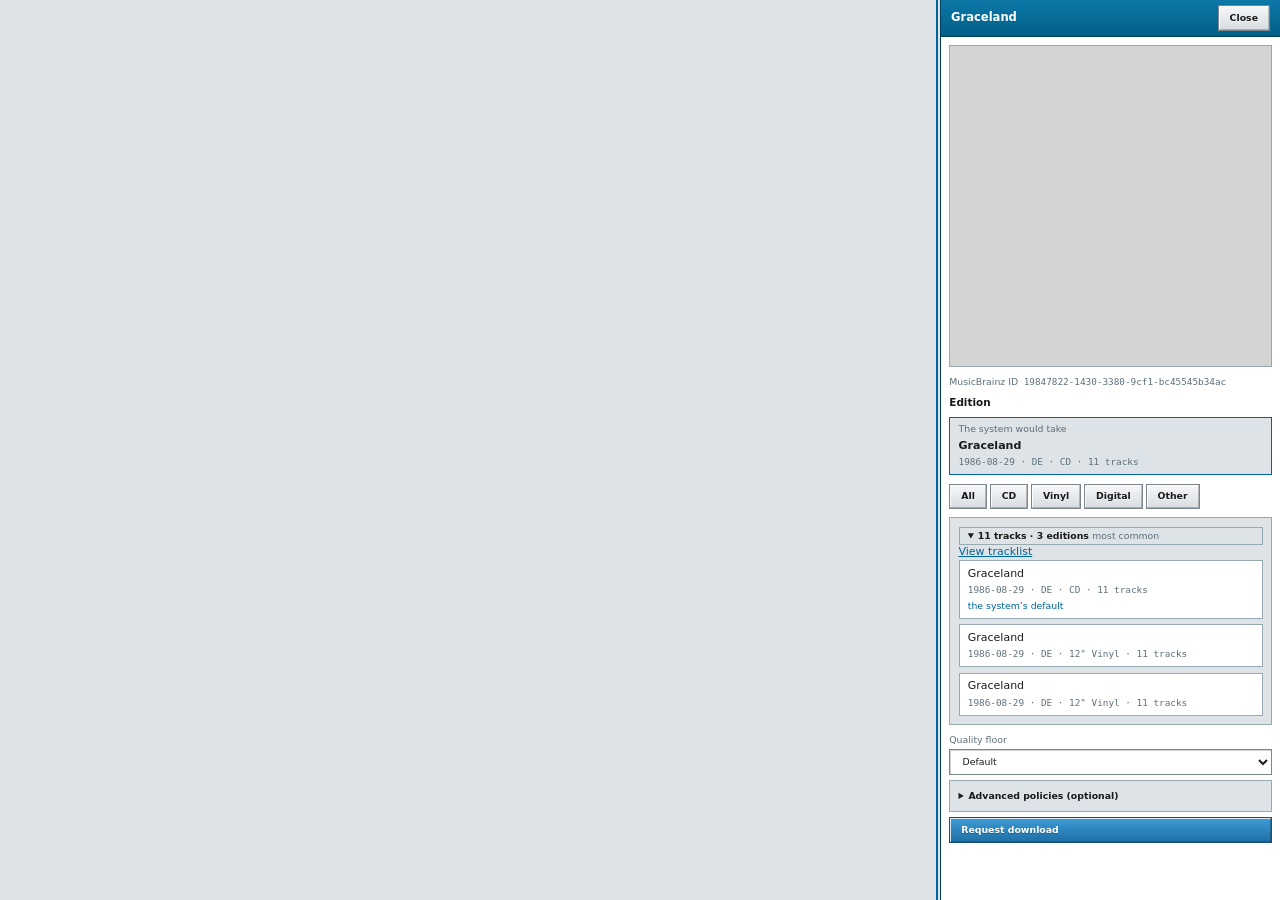
CatalogDetail › recounts a group’s heading against the pressings the filter left
The image size is (1280, 900).
Expected: the text "11 tracks · 3 editions" is shown, [978,530,1089,541]
Click the button "CD" at (1009, 496), box [990,484,1028,509]
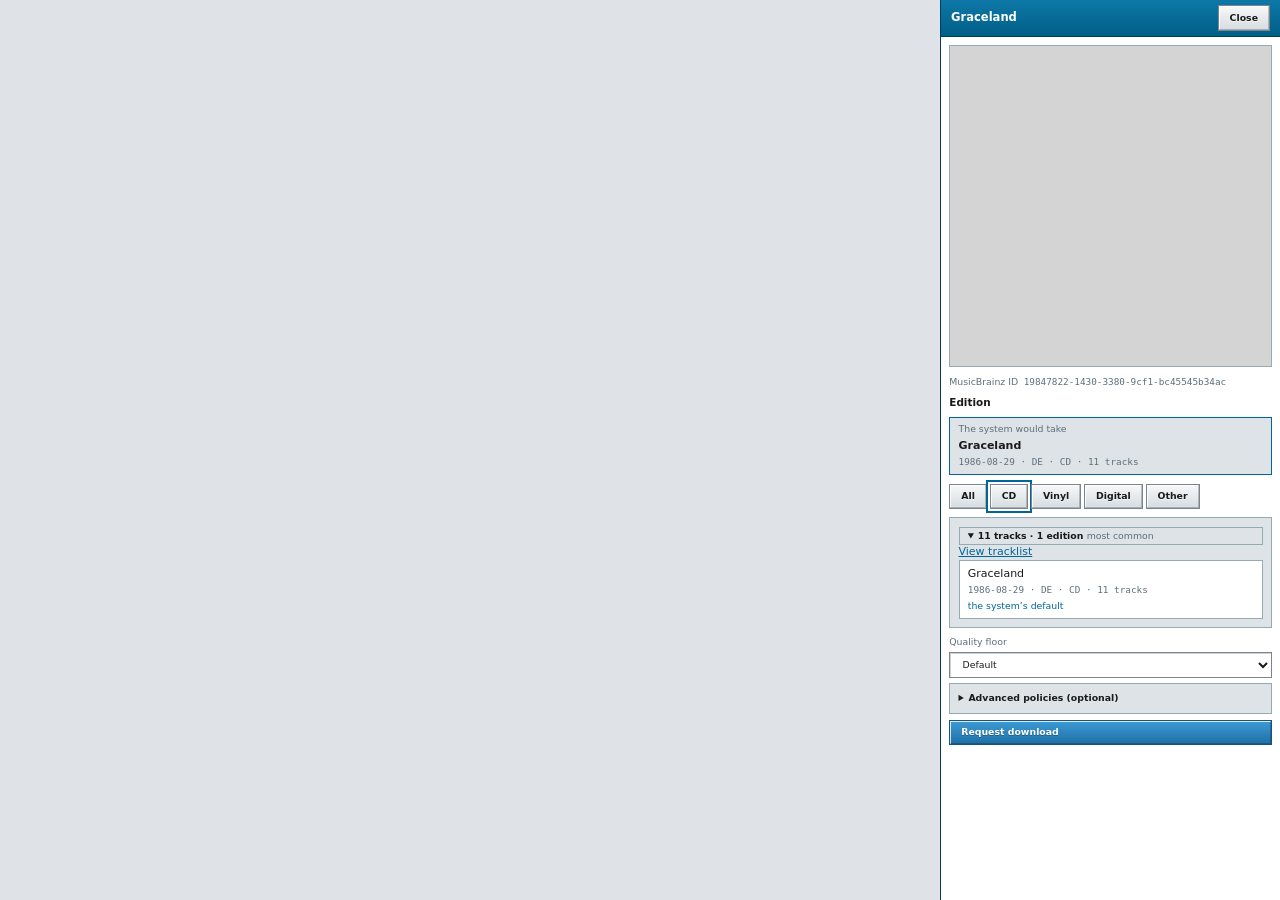
Now the number of buttons with class "edition" is 1, box [958,560,1262,619]
Now the text "11 tracks · 1 edition" is shown, box [978,530,1083,541]
